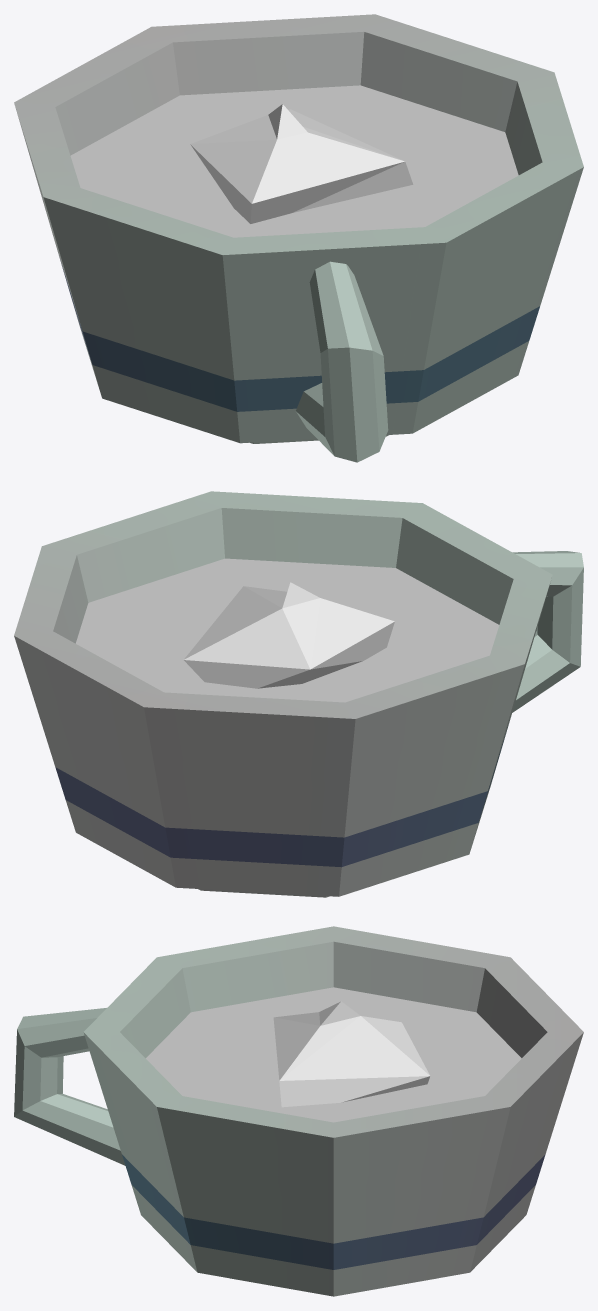
The model's file is Food_hotchocolate.fbx.
The picture shows the model from 3 angles, top to bottom: view 1: azimuth 30°, elevation 25°; view 2: azimuth 150°, elevation 25°; view 3: azimuth 270°, elevation 25°; orthographic projection. The views are drawn at different scales.
Visible parts, largest first — view 1: Cup; view 2: Cup; view 3: Cup.
Part boxes in pixels (x1=…): Cup: x1=14, y1=14, x2=583, y2=462; Cup: x1=14, y1=491, x2=583, y2=897; Cup: x1=14, y1=926, x2=583, y2=1296.
Bounding box in the file's own units: 13.19 × 6.62 × 15.02.
